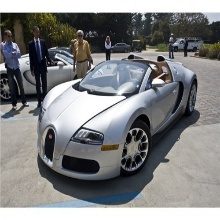no damage: (37, 55, 198, 184)
